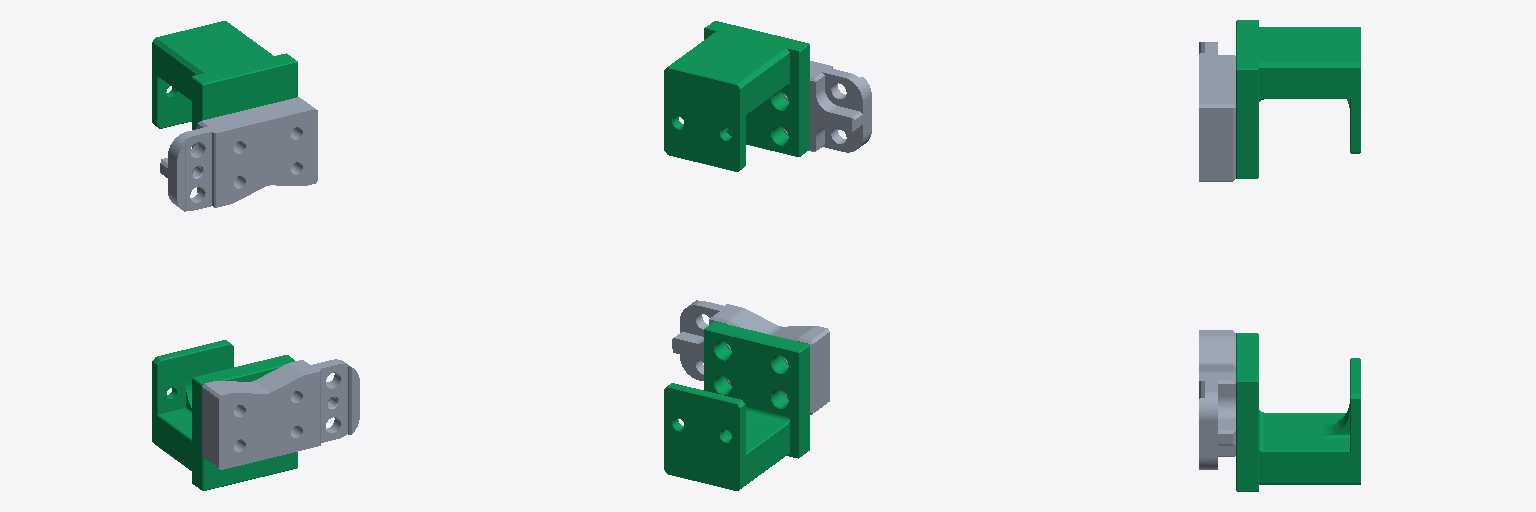
URDF robot description (robotiq_hand_e_digit):
<?xml version="1.0" ?>
<!-- =================================================================================== -->
<!-- |    This document was autogenerated by xacro from robotiq_digit_assembly.urdf.xacro | -->
<!-- |    EDITING THIS FILE BY HAND IS NOT RECOMMENDED                                 | -->
<!-- =================================================================================== -->
<robot name="robotiq_hand_e_digit">
  <link name="hand_e_base_link">
    <visual>
      <origin rpy="0 0 0" xyz="0 0 0"/>
      <geometry>
        <mesh filename="package://robotiq_digit_description/meshes/hand_e.stl" scale="1 1 1"/>
      </geometry>
      <material name="hand_e_base_link_color">
        <color rgba=".28 .31 .36 1"/>
      </material>
    </visual>
    <collision>
      <origin rpy="0 0 0" xyz="0 0 0"/>
      <geometry>
        <mesh filename="package://robotiq_digit_description/meshes/hand_e.stl" scale="1 1 1"/>
      </geometry>
    </collision>
  </link>
  <link name="finger_support_left_link">
    <visual>
      <origin rpy="0 0 0" xyz="0 0 0"/>
      <geometry>
        <mesh filename="package://robotiq_digit_description/meshes/finger_support.stl" scale="1 1 1"/>
      </geometry>
      <material name="finger_support_left_link_color">
        <color rgba=".65 .69 .75 1"/>
      </material>
    </visual>
    <collision>
      <origin rpy="0 0 0" xyz="0 0 0"/>
      <geometry>
        <mesh filename="package://robotiq_digit_description/meshes/finger_support.stl" scale="1 1 1"/>
      </geometry>
    </collision>
  </link>
  <joint name="finger_support_left_link_joint" type="fixed">
    <parent link="hand_e_base_link"/>
    <child link="finger_support_left_link"/>
    <origin rpy="0 0 0" xyz="-1e-05 0.0136 0.026514"/>
  </joint>
  <link name="digit_adapter_left_link">
    <visual>
      <origin rpy="0 0 0" xyz="0 0 0"/>
      <geometry>
        <mesh filename="package://robotiq_digit_description/meshes/digit_adapter.stl" scale="1 1 1"/>
      </geometry>
      <material name="digit_adapter_left_link_color">
        <color rgba=".08 .65 .39 1"/>
      </material>
    </visual>
    <collision>
      <origin rpy="0 0 0" xyz="0 0 0"/>
      <geometry>
        <mesh filename="package://robotiq_digit_description/meshes/digit_adapter.stl" scale="1 1 1"/>
      </geometry>
    </collision>
  </link>
  <joint name="digit_adapter_left_link_joint" type="fixed">
    <parent link="finger_support_left_link"/>
    <child link="digit_adapter_left_link"/>
    <origin rpy="-1.57079632679 1.57079632679 0" xyz="0.00810009979829 0.0065 0.0145"/>
  </joint>
  <link name="digit_left">
    <visual>
      <origin rpy="0 0 0" xyz="0 0 0"/>
      <geometry>
        <mesh filename="package://robotiq_digit_description/meshes/digit.STL" scale="1 1 1"/>
      </geometry>
      <material name="digit_left_color">
        <color rgba=".82 .84 .87 1"/>
      </material>
    </visual>
    <collision>
      <origin rpy="0 0 0" xyz="0 0 0"/>
      <geometry>
        <mesh filename="package://robotiq_digit_description/meshes/collision/digit_hull.stl" scale="1 1 1"/>
      </geometry>
    </collision>
  </link>
  <joint name="digit_left_joint" type="fixed">
    <parent link="digit_adapter_left_link"/>
    <child link="digit_left"/>
    <origin rpy="0 0 0" xyz="0.00773167147294 0.00808229493791 0.0214651973248"/>
  </joint>
  <link name="finger_support_right_link">
    <visual>
      <origin rpy="0 0 0" xyz="0 0 0"/>
      <geometry>
        <mesh filename="package://robotiq_digit_description/meshes/finger_support.stl" scale="1 1 1"/>
      </geometry>
      <material name="finger_support_right_link_color">
        <color rgba=".65 .69 .75 1"/>
      </material>
    </visual>
    <collision>
      <origin rpy="0 0 0" xyz="0 0 0"/>
      <geometry>
        <mesh filename="package://robotiq_digit_description/meshes/finger_support.stl" scale="1 1 1"/>
      </geometry>
    </collision>
  </link>
  <joint name="finger_support_right_link_joint" type="fixed">
    <parent link="hand_e_base_link"/>
    <child link="finger_support_right_link"/>
    <origin rpy="3.14159265359 0 3.14159265359" xyz="1e-05 0.0136 -0.026514"/>
  </joint>
  <link name="digit_adapter_right_link">
    <visual>
      <origin rpy="0 0 0" xyz="0 0 0"/>
      <geometry>
        <mesh filename="package://robotiq_digit_description/meshes/digit_adapter.stl" scale="1 1 1"/>
      </geometry>
      <material name="digit_adapter_right_link_color">
        <color rgba=".08 .65 .39 1"/>
      </material>
    </visual>
    <collision>
      <origin rpy="0 0 0" xyz="0 0 0"/>
      <geometry>
        <mesh filename="package://robotiq_digit_description/meshes/digit_adapter.stl" scale="1 1 1"/>
      </geometry>
    </collision>
  </link>
  <joint name="digit_adapter_right_link_joint" type="fixed">
    <parent link="finger_support_right_link"/>
    <child link="digit_adapter_right_link"/>
    <origin rpy="-1.57079632679 1.57079632679 0" xyz="0.00810009979829 0.0065 0.0145"/>
  </joint>
  <link name="digit_right">
    <visual>
      <origin rpy="0 0 0" xyz="0 0 0"/>
      <geometry>
        <mesh filename="package://robotiq_digit_description/meshes/digit.STL" scale="1 1 1"/>
      </geometry>
      <material name="digit_right_color">
        <color rgba=".82 .84 .87 1"/>
      </material>
    </visual>
    <collision>
      <origin rpy="0 0 0" xyz="0 0 0"/>
      <geometry>
        <mesh filename="package://robotiq_digit_description/meshes/collision/digit_hull.stl" scale="1 1 1"/>
      </geometry>
    </collision>
  </link>
  <joint name="digit_right_joint" type="fixed">
    <parent link="digit_adapter_right_link"/>
    <child link="digit_right"/>
    <origin rpy="0 0 0" xyz="0.00773167147294 0.00808229493791 0.0214651973248"/>
  </joint>
  <!-- Tacto's configured gel reference; its normal is local +X. -->
  <link name="digit_left_gel"/>
  <joint name="digit_left_gel_joint" type="fixed">
    <parent link="digit_left"/>
    <child link="digit_left_gel"/>
    <origin rpy="0 0 0" xyz="0.022 0 0.015"/>
  </joint>
  <!-- Tacto's configured gel reference; its normal is local +X. -->
  <link name="digit_right_gel"/>
  <joint name="digit_right_gel_joint" type="fixed">
    <parent link="digit_right"/>
    <child link="digit_right_gel"/>
    <origin rpy="0 0 0" xyz="0.022 0 0.015"/>
  </joint>
</robot>

--- Facts derived from the render (not from the file) ---
3 views of the same robot in one strip: view 1: azimuth 30°, elevation 25°; view 2: azimuth 150°, elevation 25°; view 3: azimuth 270°, elevation 25° (orthographic).
Robot: robotiq_hand_e_digit — 9 links, 8 joints (8 fixed); root link hand_e_base_link; default pose: every joint at zero.
Links seen in each view (by area): view 1: finger_support_right_link, finger_support_left_link, digit_adapter_left_link, digit_adapter_right_link; view 2: digit_adapter_right_link, digit_adapter_left_link, finger_support_right_link, finger_support_left_link; view 3: digit_adapter_left_link, digit_adapter_right_link, finger_support_left_link, finger_support_right_link.
Boxes of the visible links, x1,y1,x2,y2 form: finger_support_right_link: (202,359,359,469); finger_support_left_link: (160,97,317,211); digit_adapter_left_link: (152,21,297,147); digit_adapter_right_link: (152,340,297,490); digit_adapter_right_link: (664,321,809,490); digit_adapter_left_link: (664,21,809,171); finger_support_right_link: (672,300,829,414); finger_support_left_link: (783,61,871,152); digit_adapter_left_link: (1236,20,1360,178); digit_adapter_right_link: (1236,333,1360,491); finger_support_left_link: (1199,42,1235,181); finger_support_right_link: (1199,330,1235,469).
Bounding box of the posed robot: 0.0385 × 0.0285 × 0.082 m (x, y, z).
4 mesh visuals loaded from 4 distinct referenced files (2 binary STL); not drawn: 3 (reference not matched to a file when rendering).
